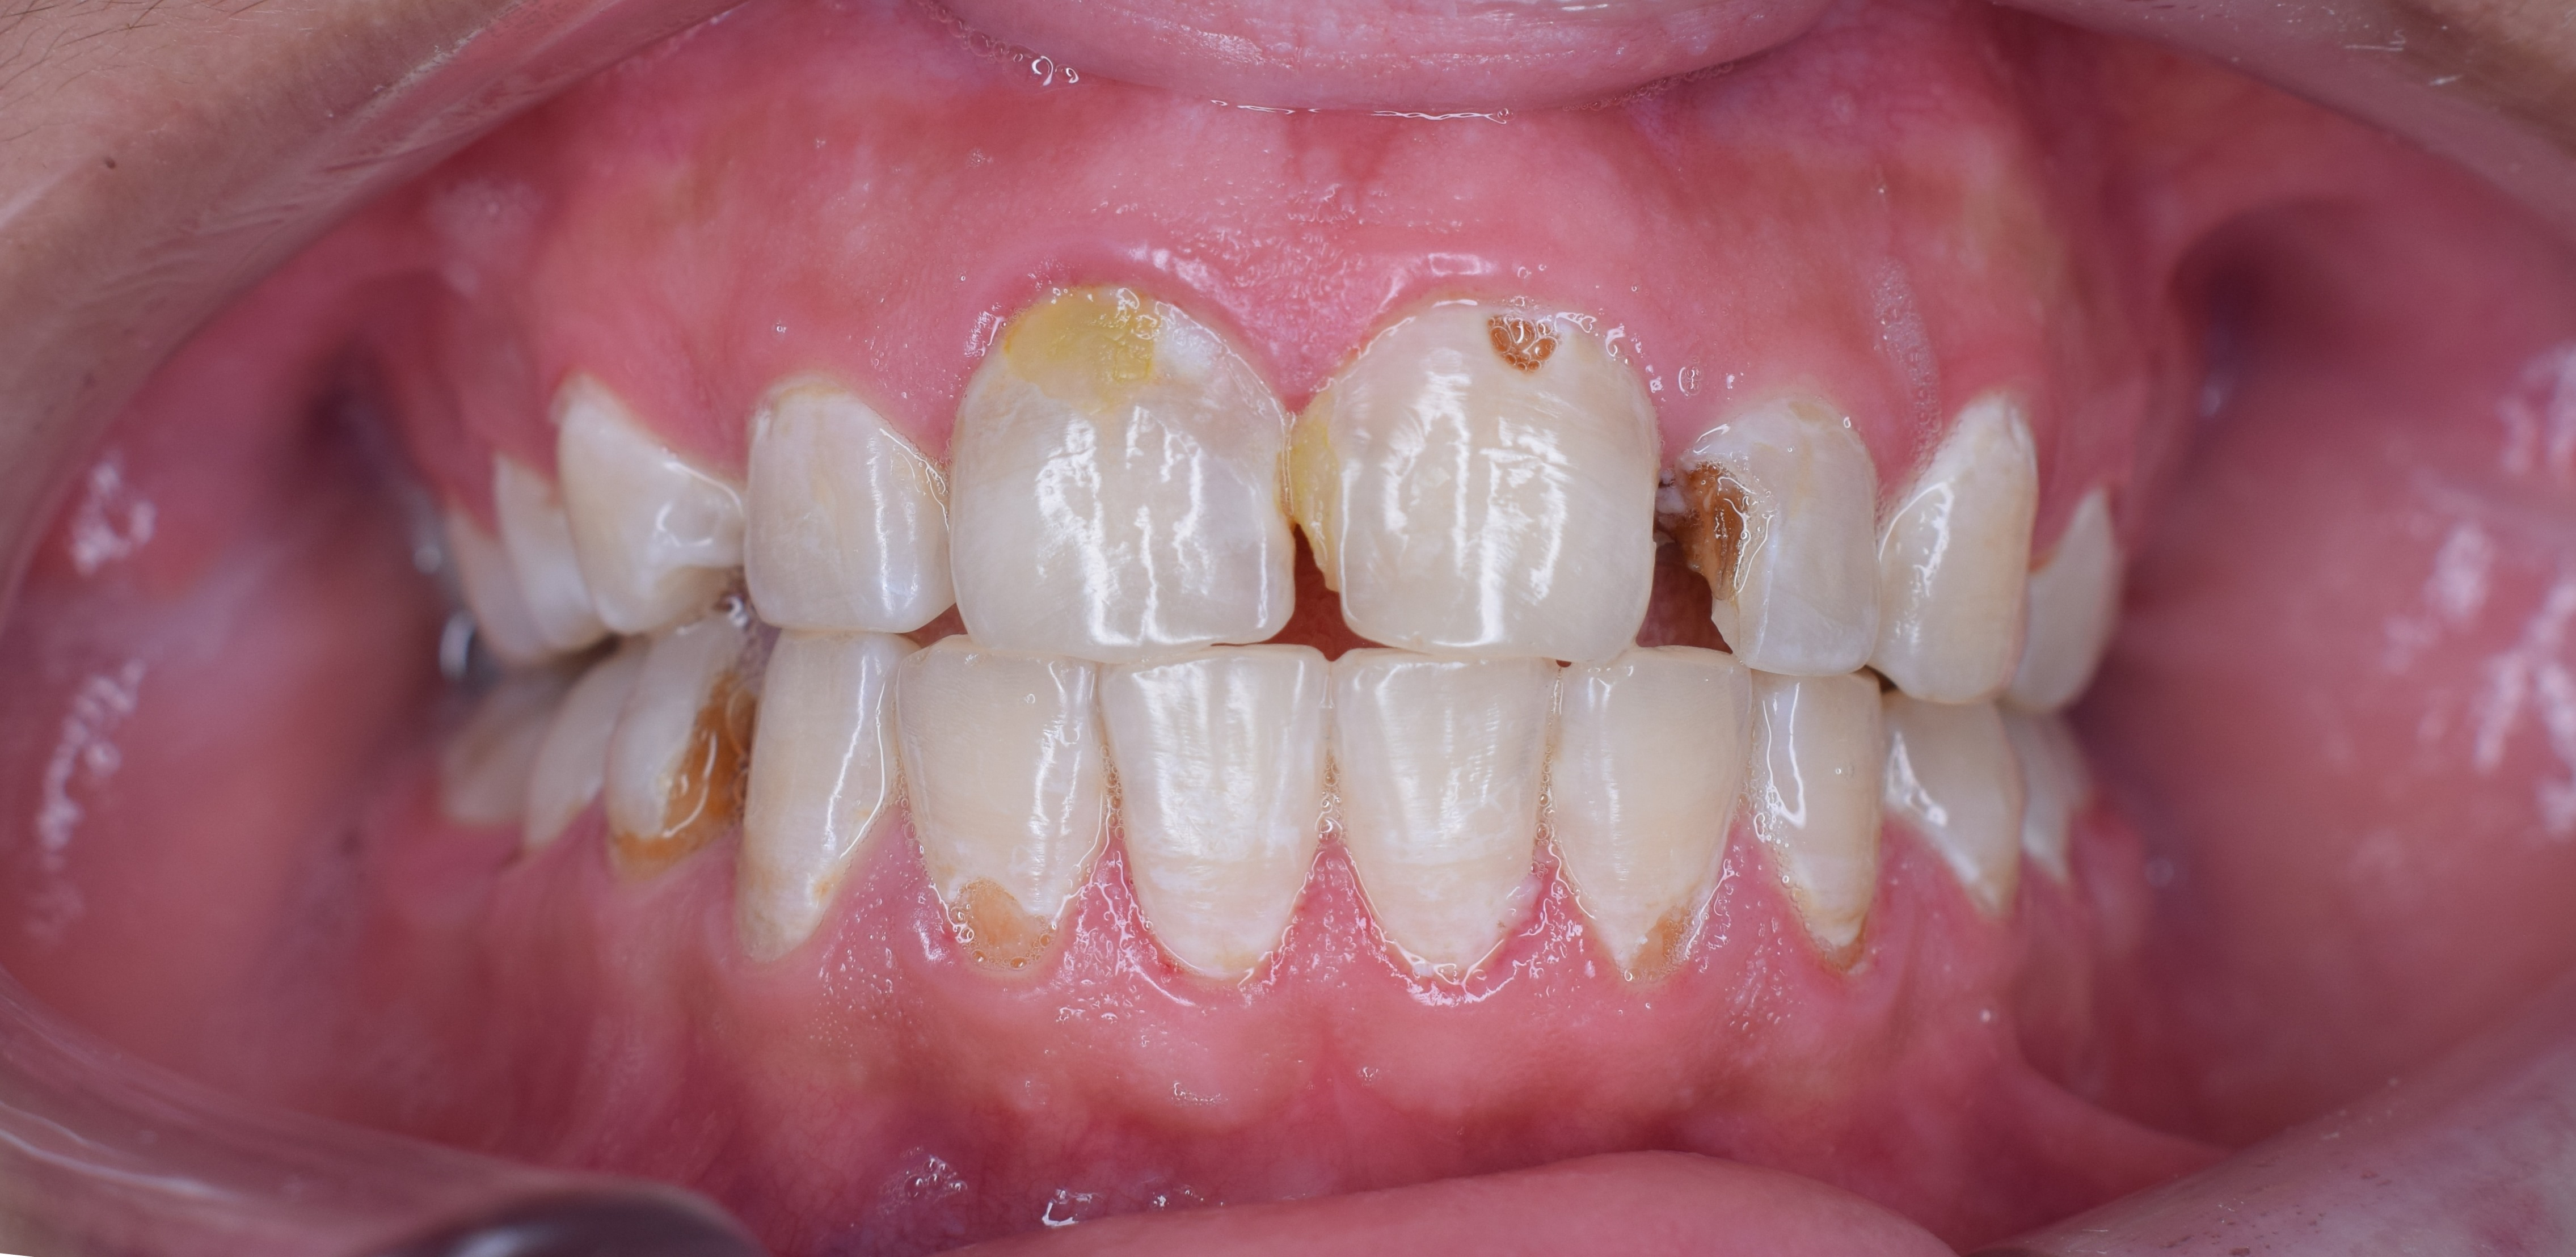LL1BC_healthy: (1893, 702, 2022, 907)
LL2BC_healthy: (2017, 721, 2075, 882)
LLCI_healthy: (1334, 652, 1554, 976)
LLC_healthy: (1751, 675, 1888, 956)
LLLI_decay: (1556, 657, 1750, 986)
LR1BC_decay: (606, 631, 756, 873)
LR2BC_healthy: (522, 652, 614, 853)
LRCI_healthy: (1102, 647, 1327, 981)
LRC_healthy: (747, 646, 890, 942)
LRLI_decay: (890, 652, 1112, 983)
UL1BC_healthy: (2026, 495, 2114, 700)
ULCI_decay: (1293, 307, 1656, 656)
ULC_healthy: (1889, 399, 2037, 707)
ULLI_decay: (1679, 403, 1888, 672)
UR1BC_healthy: (491, 473, 583, 651)
URCI_decay: (948, 288, 1298, 656)
URC_healthy: (555, 386, 741, 636)
URLI_healthy: (736, 386, 948, 631)
